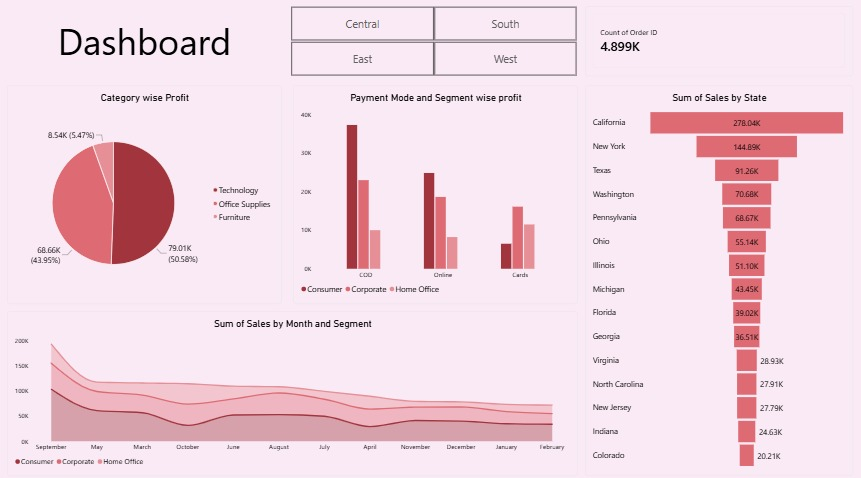

Layout of this report page (visuals, bound fields, positions):
{"tool":"powerbi","page":{"name":"Page 2","canvas":[1920,1080],"ordinal":1},"visuals":[{"type":"stackedAreaChart","fields":{"Category":["Sheet1.Month"],"Series":["Sheet1.Segment"],"Y":["Sum(Sheet1.Sales)"]},"box":[17.8,693.3,1268.9,366.7],"z":0},{"type":"funnel","fields":{"Category":["Sheet1.State"],"Y":["Sum(Sheet1.Sales)"]},"box":[1302.2,191.1,595.6,868.9],"z":1},{"type":"pieChart","title":" Category wise Profit","fields":{"Category":["Sheet1.Category"],"Y":["Sum(Sheet1.Profit)"]},"box":[17.8,191.1,611.1,486.7],"z":2},{"type":"clusteredColumnChart","title":"Payment Mode and Segment wise profit","fields":{"Category":["Sheet1.Payment Mode"],"Series":["Sheet1.Segment"],"Y":["Sum(Sheet1.Profit)"]},"box":[653.3,191.1,633.3,486.7],"z":3},{"type":"cardVisual","fields":{"Data":["CountNonNull(Sheet1.Order ID)"]},"box":[1302.2,15.6,595.6,155.6],"z":4},{"type":"slicer","fields":{"Values":["Sheet1.Region"]},"box":[628.9,15.6,673.3,155.6],"z":5},{"type":"textbox","box":[17.8,37.8,611.1,117.8],"z":6}]}

Visuals, with their boxes in screenshot pixels (x1, y1, x2, y2), scaled from the page's 1920x1080 canvas onto the 861x478 screenshot:
stackedAreaChart - Sheet1.Month x Sheet1.Segment: {"x1": 8, "y1": 307, "x2": 577, "y2": 469}
funnel - Sheet1.State x Sum(Sheet1.Sales): {"x1": 584, "y1": 85, "x2": 851, "y2": 469}
" Category wise Profit" pieChart: {"x1": 8, "y1": 85, "x2": 282, "y2": 300}
"Payment Mode and Segment wise profit" clusteredColumnChart: {"x1": 293, "y1": 85, "x2": 577, "y2": 300}
cardVisual - CountNonNull(Sheet1.Order ID): {"x1": 584, "y1": 7, "x2": 851, "y2": 76}
slicer - Sheet1.Region: {"x1": 282, "y1": 7, "x2": 584, "y2": 76}
textbox: {"x1": 8, "y1": 17, "x2": 282, "y2": 69}
